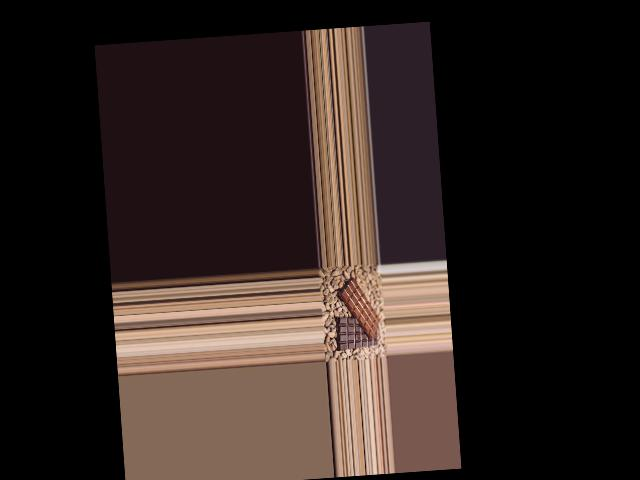chocolate: (332, 314, 381, 355)
